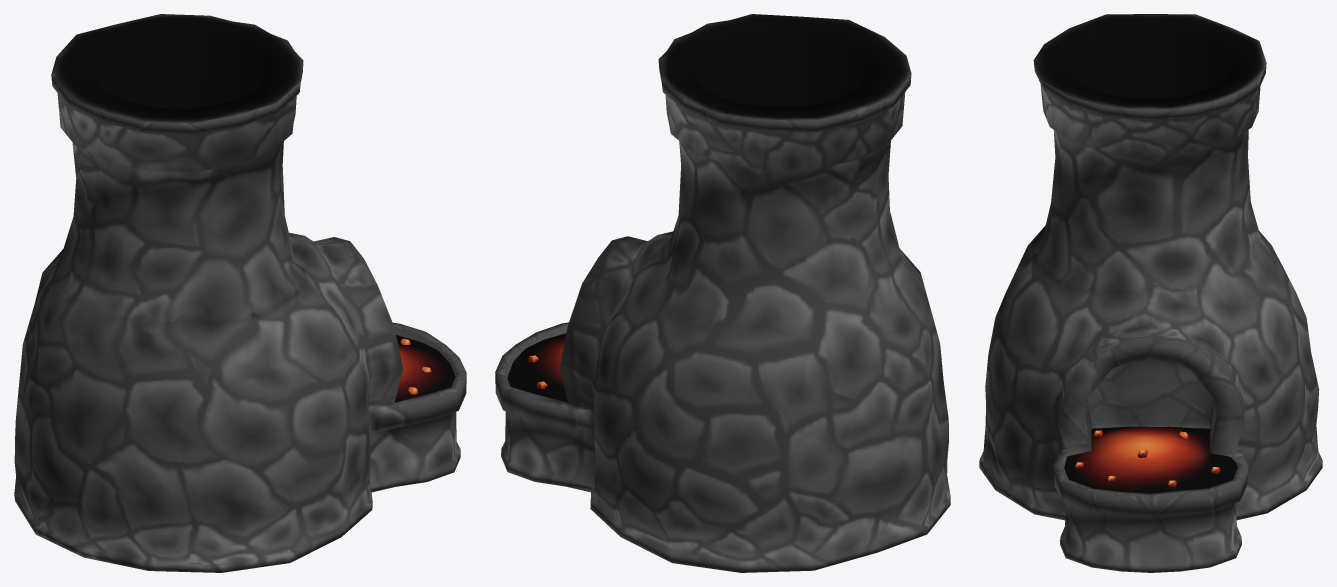
Rendered from Furnacev2.fbx.
3 views of the same model, side by side, from view 1: azimuth 30°, elevation 25°; view 2: azimuth 150°, elevation 25°; view 3: azimuth 270°, elevation 25° (orthographic). The views are drawn at different scales.
Parts seen in each view (by area): view 1: Cylinder; view 2: Cylinder; view 3: Cylinder.
Boxes of the visible parts, <box> form: Cylinder: <box>14,14,466,572</box>; Cylinder: <box>495,14,950,572</box>; Cylinder: <box>979,14,1322,572</box>.
Bounding box in the file's own units: 4.35 × 4.35 × 3.39.
